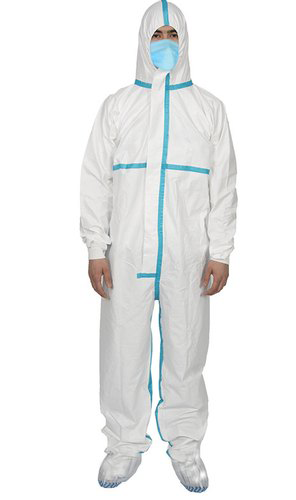Coverall: (78, 1, 237, 495)
with_mask: (146, 26, 183, 69)
